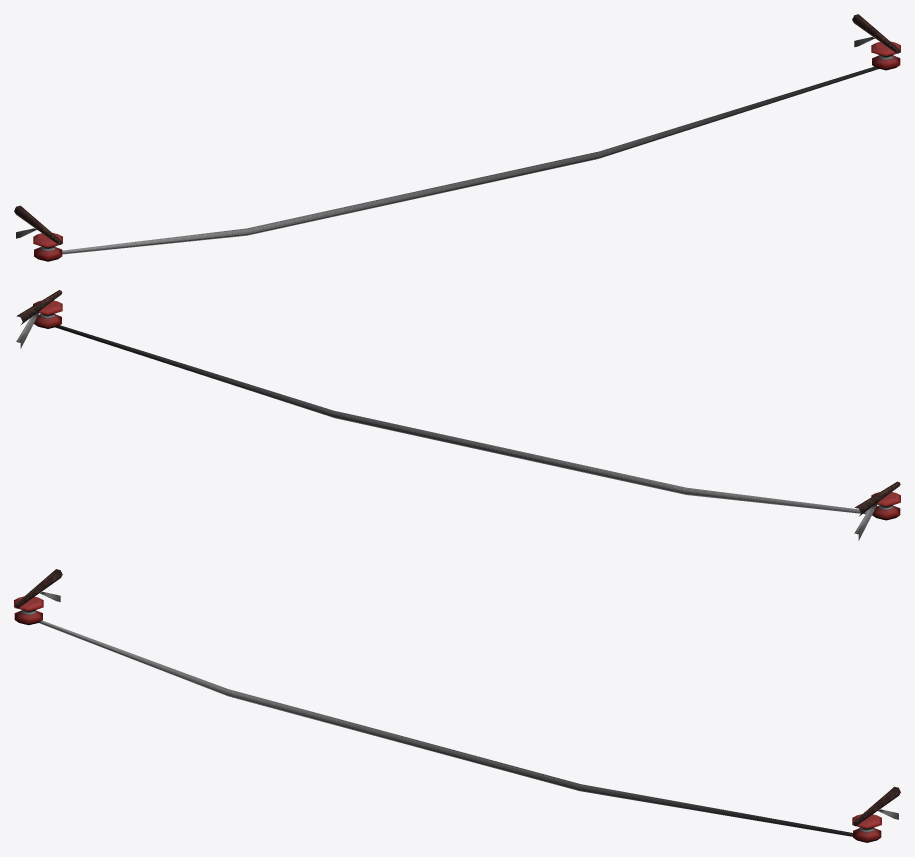
File: M8_Pylon-Straight.glb
3 views of the same model, one above another, from view 1: azimuth 30°, elevation 25°; view 2: azimuth 150°, elevation 25°; view 3: azimuth 330°, elevation 25° (orthographic).
Visible parts, largest first — view 1: M8_PYLON-STRAIGHT; view 2: M8_PYLON-STRAIGHT; view 3: M8_PYLON-STRAIGHT.
Part boxes in pixels (left/top/right/bottom): M8_PYLON-STRAIGHT: left=14, top=14, right=900, bottom=261; M8_PYLON-STRAIGHT: left=16, top=290, right=900, bottom=540; M8_PYLON-STRAIGHT: left=14, top=569, right=900, bottom=842.
Bounding box in the file's own units: 9.84 × 0.713 × 0.826.
4 materials, 4 textured.
